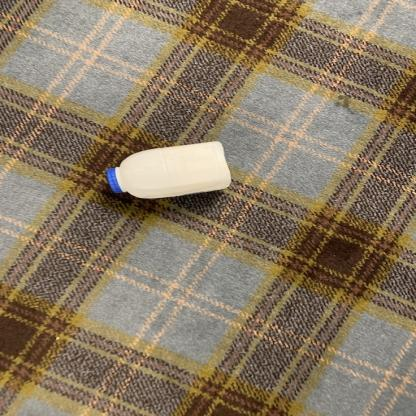trash: (102, 136, 233, 202)
